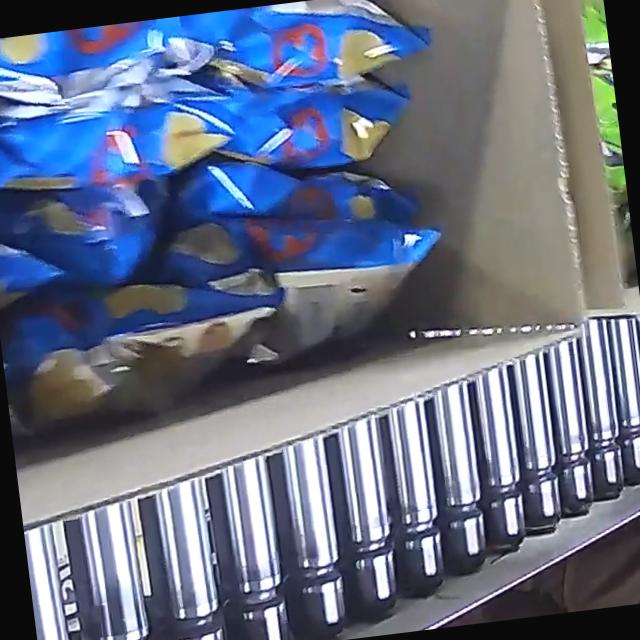paprika: (0, 0, 477, 446)
